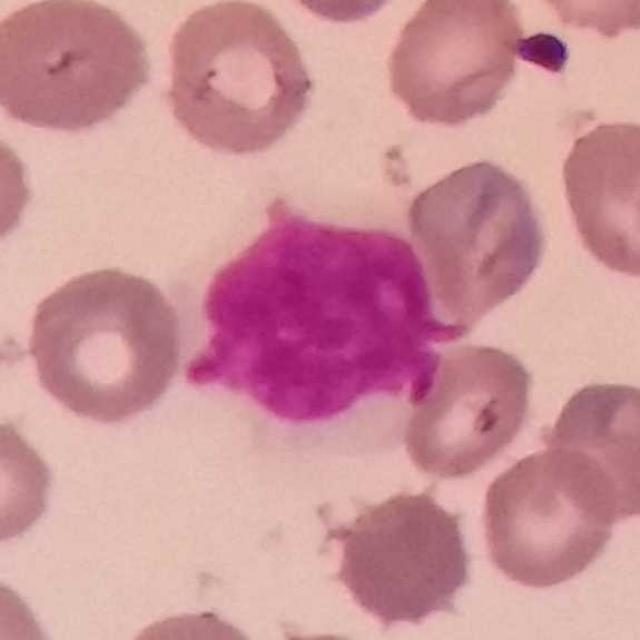Monocyte: (190, 162, 440, 464)
Platelets: (516, 28, 574, 78)
RBC: (21, 260, 188, 428), (401, 152, 553, 328), (155, 0, 320, 160), (323, 482, 481, 634), (474, 442, 623, 593), (0, 0, 157, 137), (397, 336, 539, 483), (379, 0, 530, 130), (537, 373, 640, 524), (553, 111, 639, 285), (0, 412, 60, 554), (109, 603, 273, 640), (0, 112, 39, 262), (514, 0, 640, 40), (0, 567, 64, 640), (267, 0, 416, 27)
